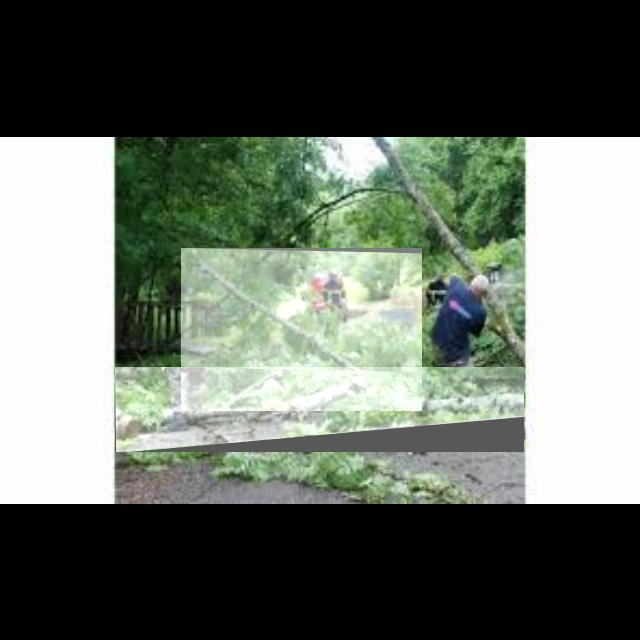Fallen Tree: (181, 248, 423, 412), (115, 367, 525, 453)
